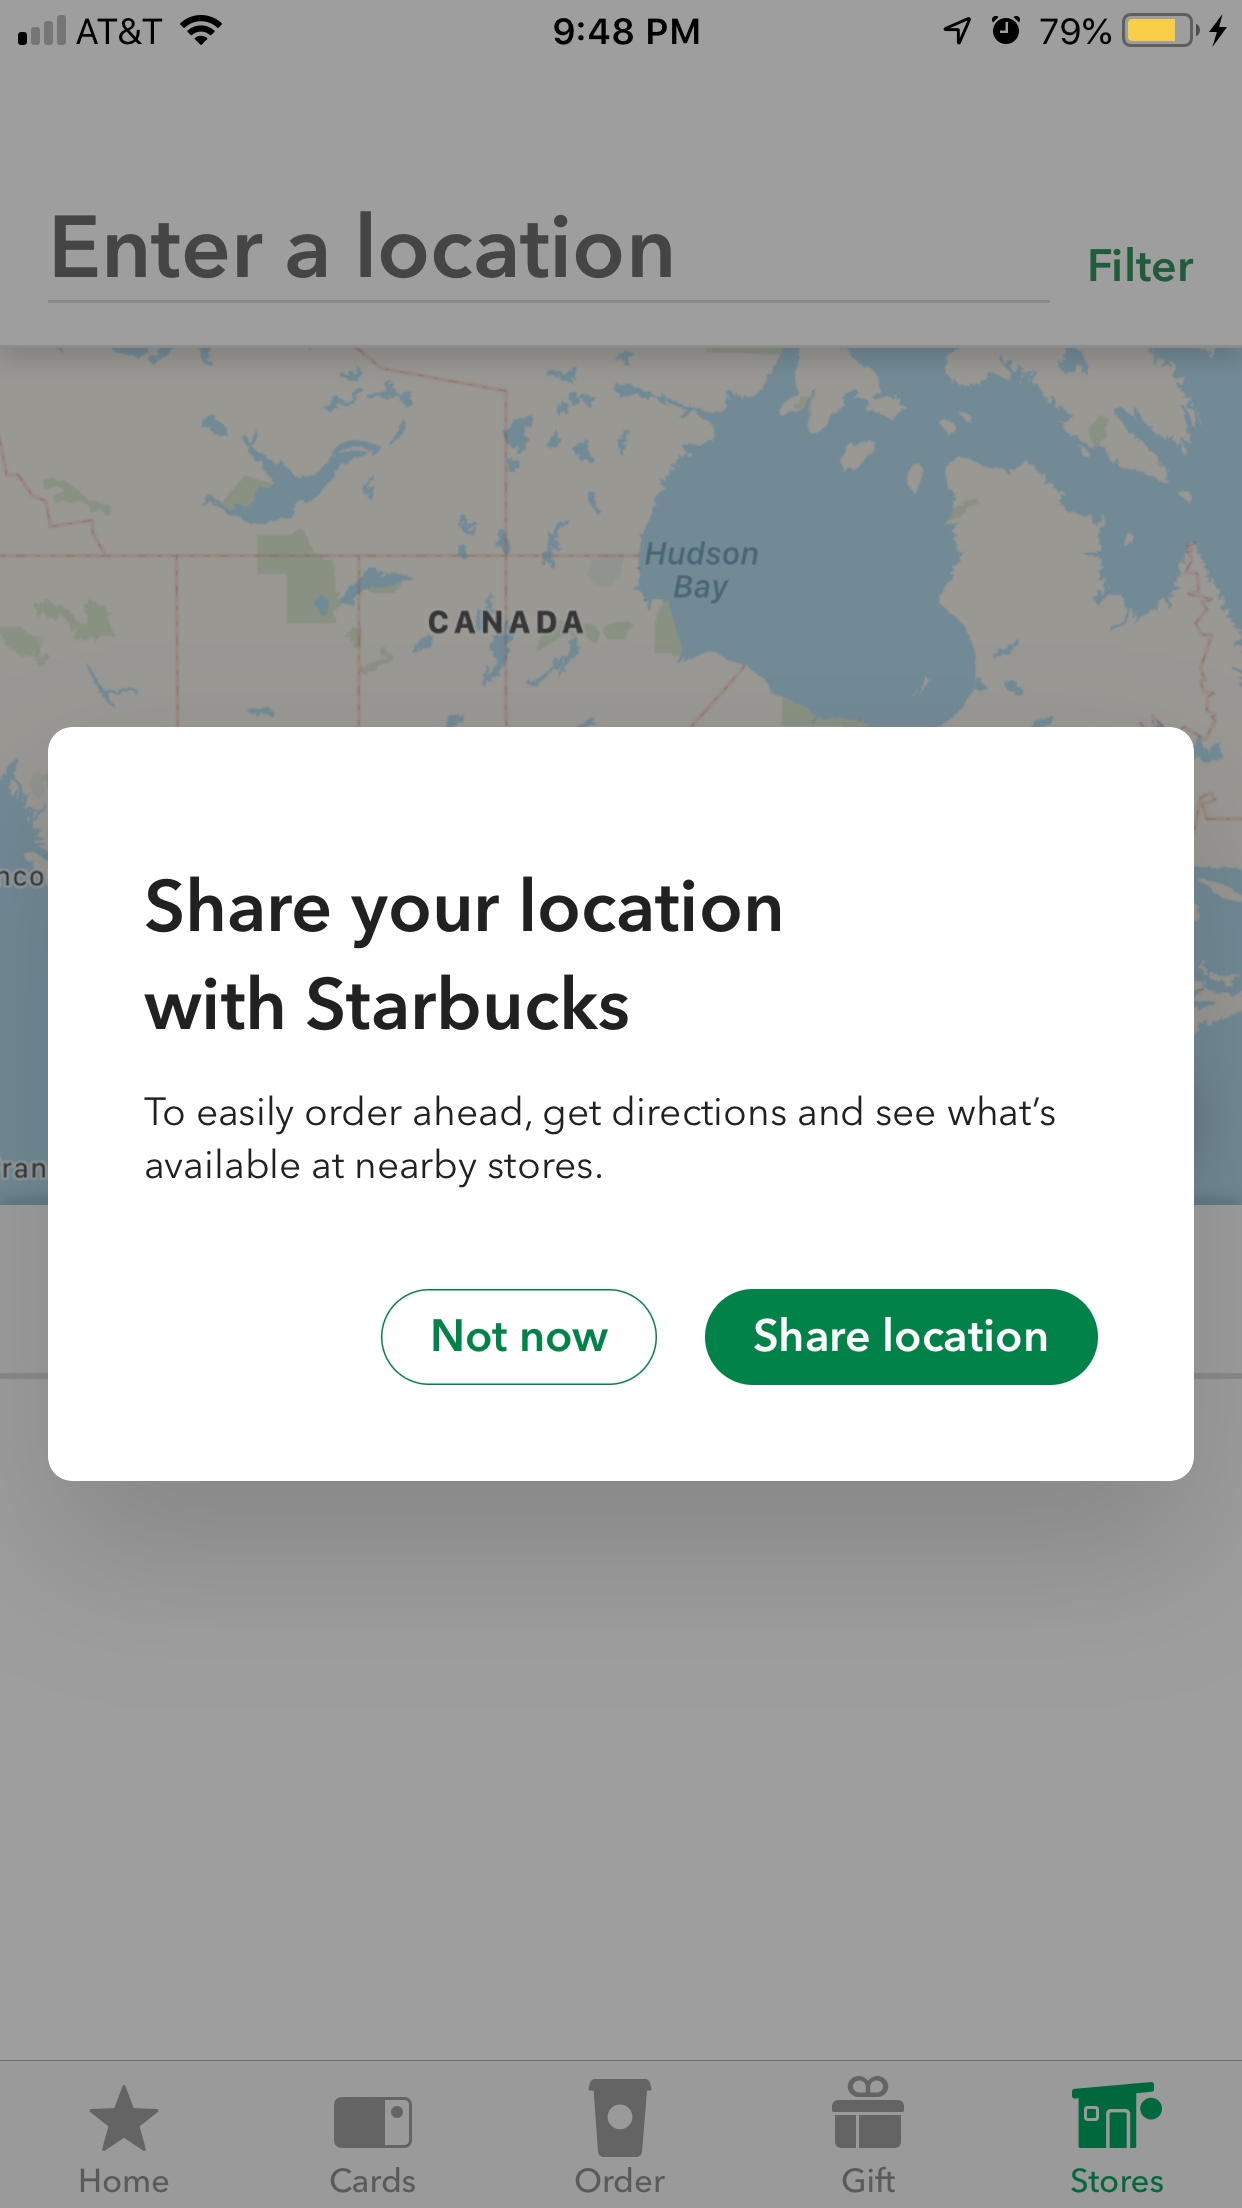Modal: (49, 726, 1195, 1482)
Text: (144, 877, 783, 1033), (146, 1093, 1055, 1190)
TextButton: (705, 1289, 1099, 1386), (381, 1289, 658, 1386)
UpperTaskBar: (2, 2, 1242, 49)
